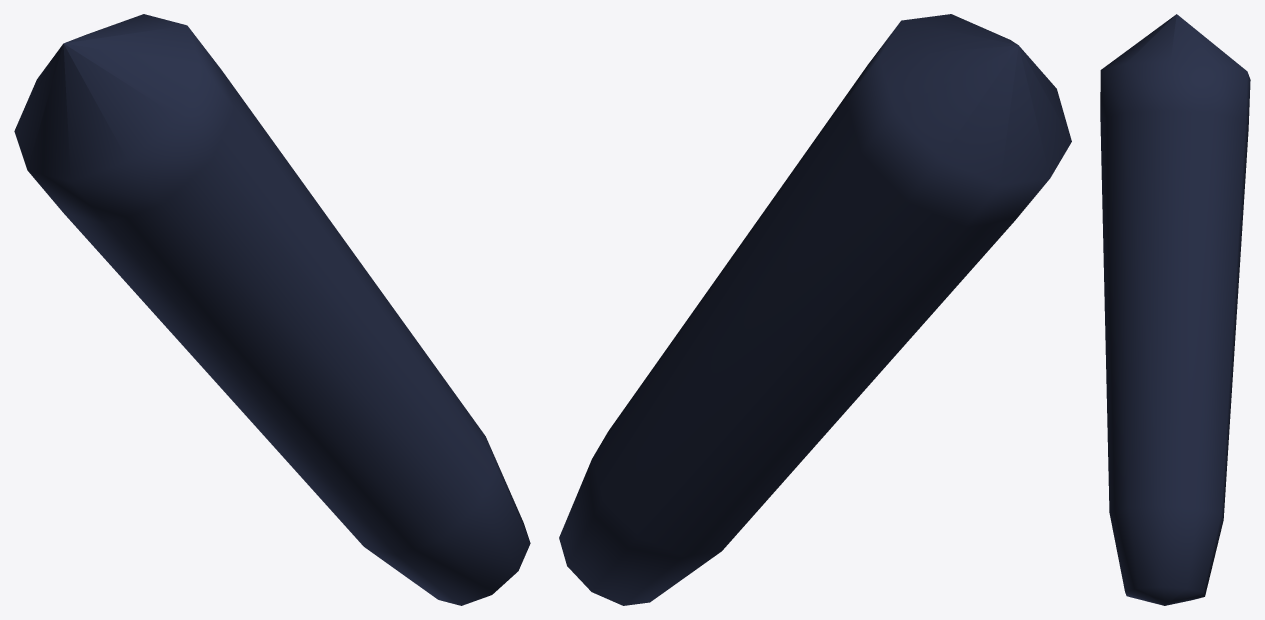
The model's file is forearm_L.obj.
3 renders of one model, left to right at view 1: azimuth 30°, elevation 25°; view 2: azimuth 150°, elevation 25°; view 3: azimuth 270°, elevation 25°, orthographic. The views are drawn at different scales.
Visible parts, largest first — view 1: forearm_L; view 2: forearm_L; view 3: forearm_L.
Part boxes in pixels (bbox=[...]): forearm_L: bbox=[14, 14, 530, 605]; forearm_L: bbox=[559, 14, 1071, 605]; forearm_L: bbox=[1100, 14, 1250, 605].
Bounding box in the file's own units: 0.229 × 0.2903 × 0.0861.
